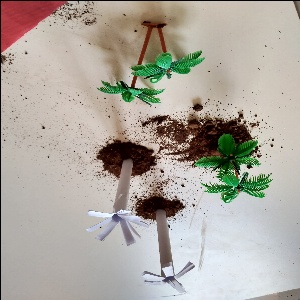plant: (98, 24, 205, 109), (190, 123, 275, 219)
weed: (126, 210, 212, 294), (81, 145, 140, 248)
